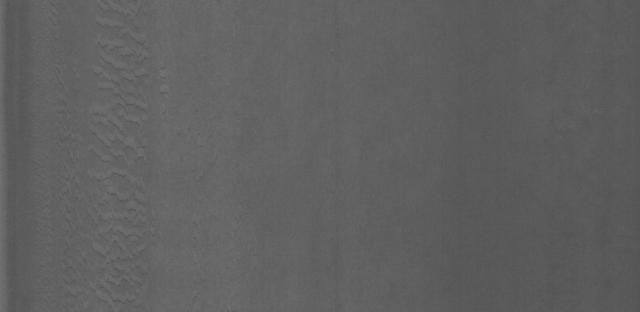silk_spot: (54, 17, 182, 301)
